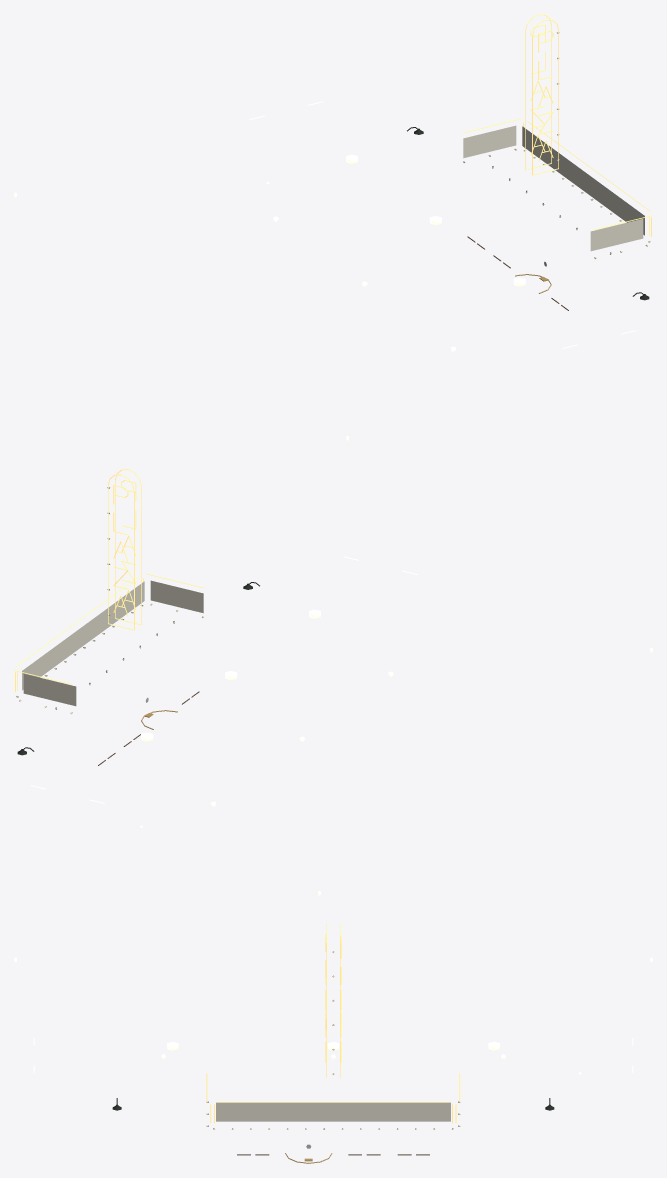
Rendered from SM_Town_Cinema_Fixtures_LOD2.fbx.
The picture shows the model from 3 angles, top to bottom: view 1: azimuth 30°, elevation 25°; view 2: azimuth 150°, elevation 25°; view 3: azimuth 270°, elevation 25°; orthographic projection. The views are drawn at different scales.
Visible parts, largest first — view 1: SM_Town_Cinema_Fixtures_LOD2; view 2: SM_Town_Cinema_Fixtures_LOD2; view 3: SM_Town_Cinema_Fixtures_LOD2.
Part boxes in pixels (box(x1,y1,x2,y2)): SM_Town_Cinema_Fixtures_LOD2: box(14, 14, 652, 440); SM_Town_Cinema_Fixtures_LOD2: box(14, 469, 652, 895); SM_Town_Cinema_Fixtures_LOD2: box(14, 924, 652, 1163).
Size of the model in its own units: 14.65 by 20.68 by 8.62.
